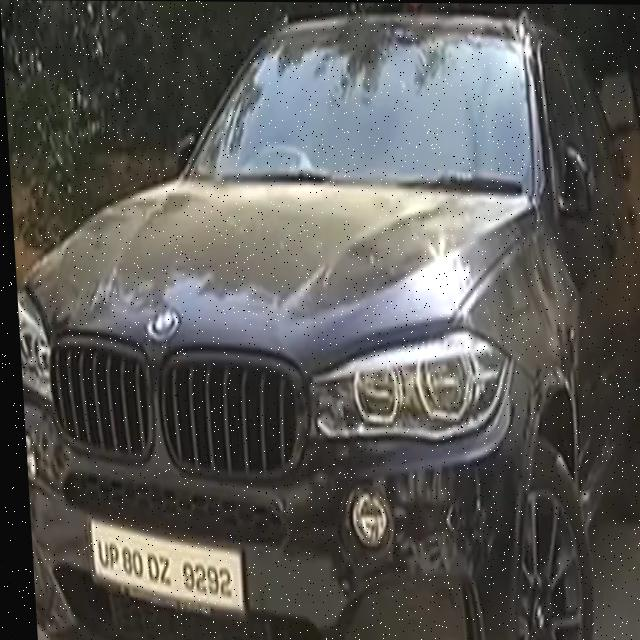plate: (75, 511, 245, 627)
